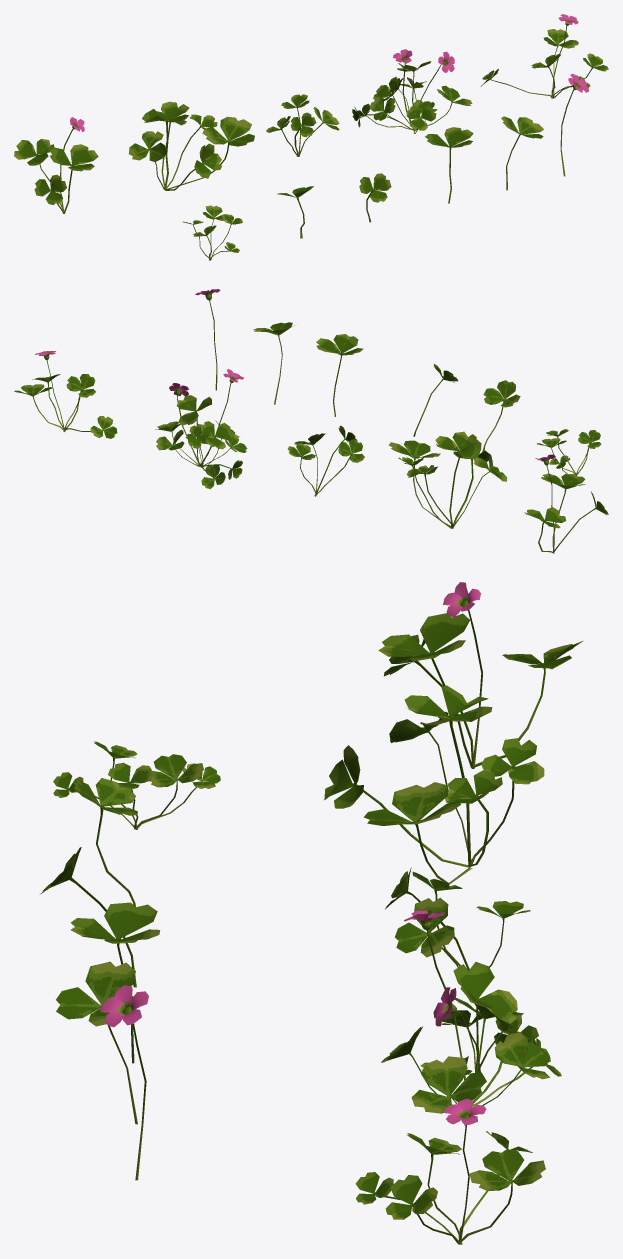
Rendered from mata.glb.
3 views of the same model, one above another, from view 1: azimuth 30°, elevation 25°; view 2: azimuth 150°, elevation 25°; view 3: azimuth 270°, elevation 25° (orthographic). The views are drawn at different scales.
Visible parts, largest first — view 1: shrub_sorrel_01_b, shrub_sorrel_01_d, shrub_sorrel_01_a, shrub_sorrel_01_e, shrub_sorrel_01_c, shrub_sorrel_01_f, shrub_sorrel_01_i, shrub_sorrel_01_h, shrub_sorrel_01_j, shrub_sorrel_01_k; view 2: shrub_sorrel_01_d, shrub_sorrel_01_b, shrub_sorrel_01_e, shrub_sorrel_01_a, shrub_sorrel_01_c, shrub_sorrel_01_f, shrub_sorrel_01_i, shrub_sorrel_01_g, shrub_sorrel_01_j; view 3: shrub_sorrel_01_b, shrub_sorrel_01_d, shrub_sorrel_01_e, shrub_sorrel_01_a, shrub_sorrel_01_f, shrub_sorrel_01_c, shrub_sorrel_01_j, shrub_sorrel_01_i, shrub_sorrel_01_k, shrub_sorrel_01_g.
Boxes of the visible parts, <box> form: shrub_sorrel_01_b: <box>128,101,254,190</box>; shrub_sorrel_01_d: <box>352,49,472,133</box>; shrub_sorrel_01_a: <box>14,117,98,213</box>; shrub_sorrel_01_e: <box>480,14,608,98</box>; shrub_sorrel_01_c: <box>266,94,339,156</box>; shrub_sorrel_01_f: <box>182,205,242,260</box>; shrub_sorrel_01_i: <box>425,127,473,203</box>; shrub_sorrel_01_h: <box>359,173,391,222</box>; shrub_sorrel_01_j: <box>501,116,543,190</box>; shrub_sorrel_01_k: <box>560,73,588,176</box>; shrub_sorrel_01_d: <box>155,369,247,489</box>; shrub_sorrel_01_b: <box>388,431,507,528</box>; shrub_sorrel_01_e: <box>14,351,117,438</box>; shrub_sorrel_01_a: <box>524,454,608,553</box>; shrub_sorrel_01_c: <box>287,425,364,496</box>; shrub_sorrel_01_f: <box>537,429,601,475</box>; shrub_sorrel_01_i: <box>316,334,363,416</box>; shrub_sorrel_01_g: <box>482,380,520,451</box>; shrub_sorrel_01_j: <box>253,322,294,404</box>; shrub_sorrel_01_b: <box>324,685,544,884</box>; shrub_sorrel_01_d: <box>381,910,561,1113</box>; shrub_sorrel_01_e: <box>355,1098,545,1244</box>; shrub_sorrel_01_a: <box>378,582,582,768</box>; shrub_sorrel_01_f: <box>53,741,220,829</box>; shrub_sorrel_01_c: <box>385,867,530,970</box>; shrub_sorrel_01_j: <box>56,961,137,1124</box>; shrub_sorrel_01_i: <box>70,902,160,1063</box>; shrub_sorrel_01_k: <box>100,985,148,1180</box>; shrub_sorrel_01_g: <box>73,778,137,906</box>.
Bounding box in the file's own units: 0.3521 × 0.058 × 0.1464.
1 material, 1 textured.
